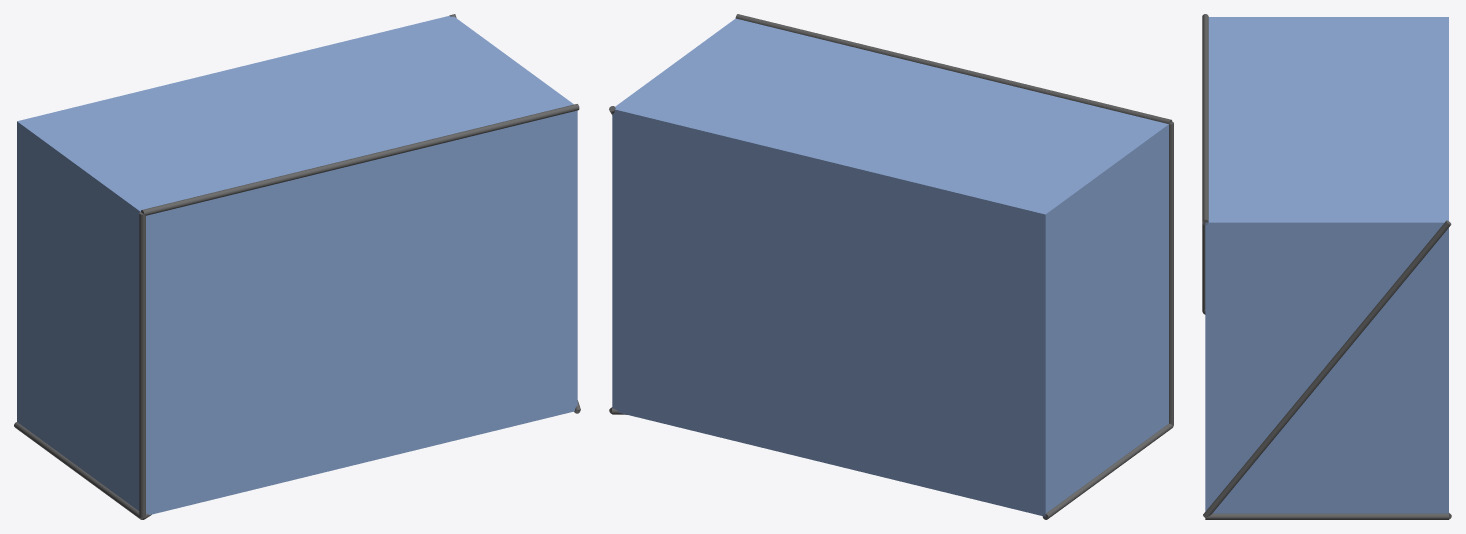
File: cuboid.glb
3 renders of one model, left to right at view 1: azimuth 30°, elevation 25°; view 2: azimuth 150°, elevation 25°; view 3: azimuth 270°, elevation 25°, orthographic. The views are drawn at different scales.
Visible parts, largest first — view 1: world; view 2: world; view 3: world.
Boxes of the visible parts, x1,y1,x2,y2 form: world: (14, 14, 580, 519); world: (609, 14, 1173, 519); world: (1202, 14, 1451, 519).
Size of the model in its own units: 3.04 by 2.04 by 1.54.
